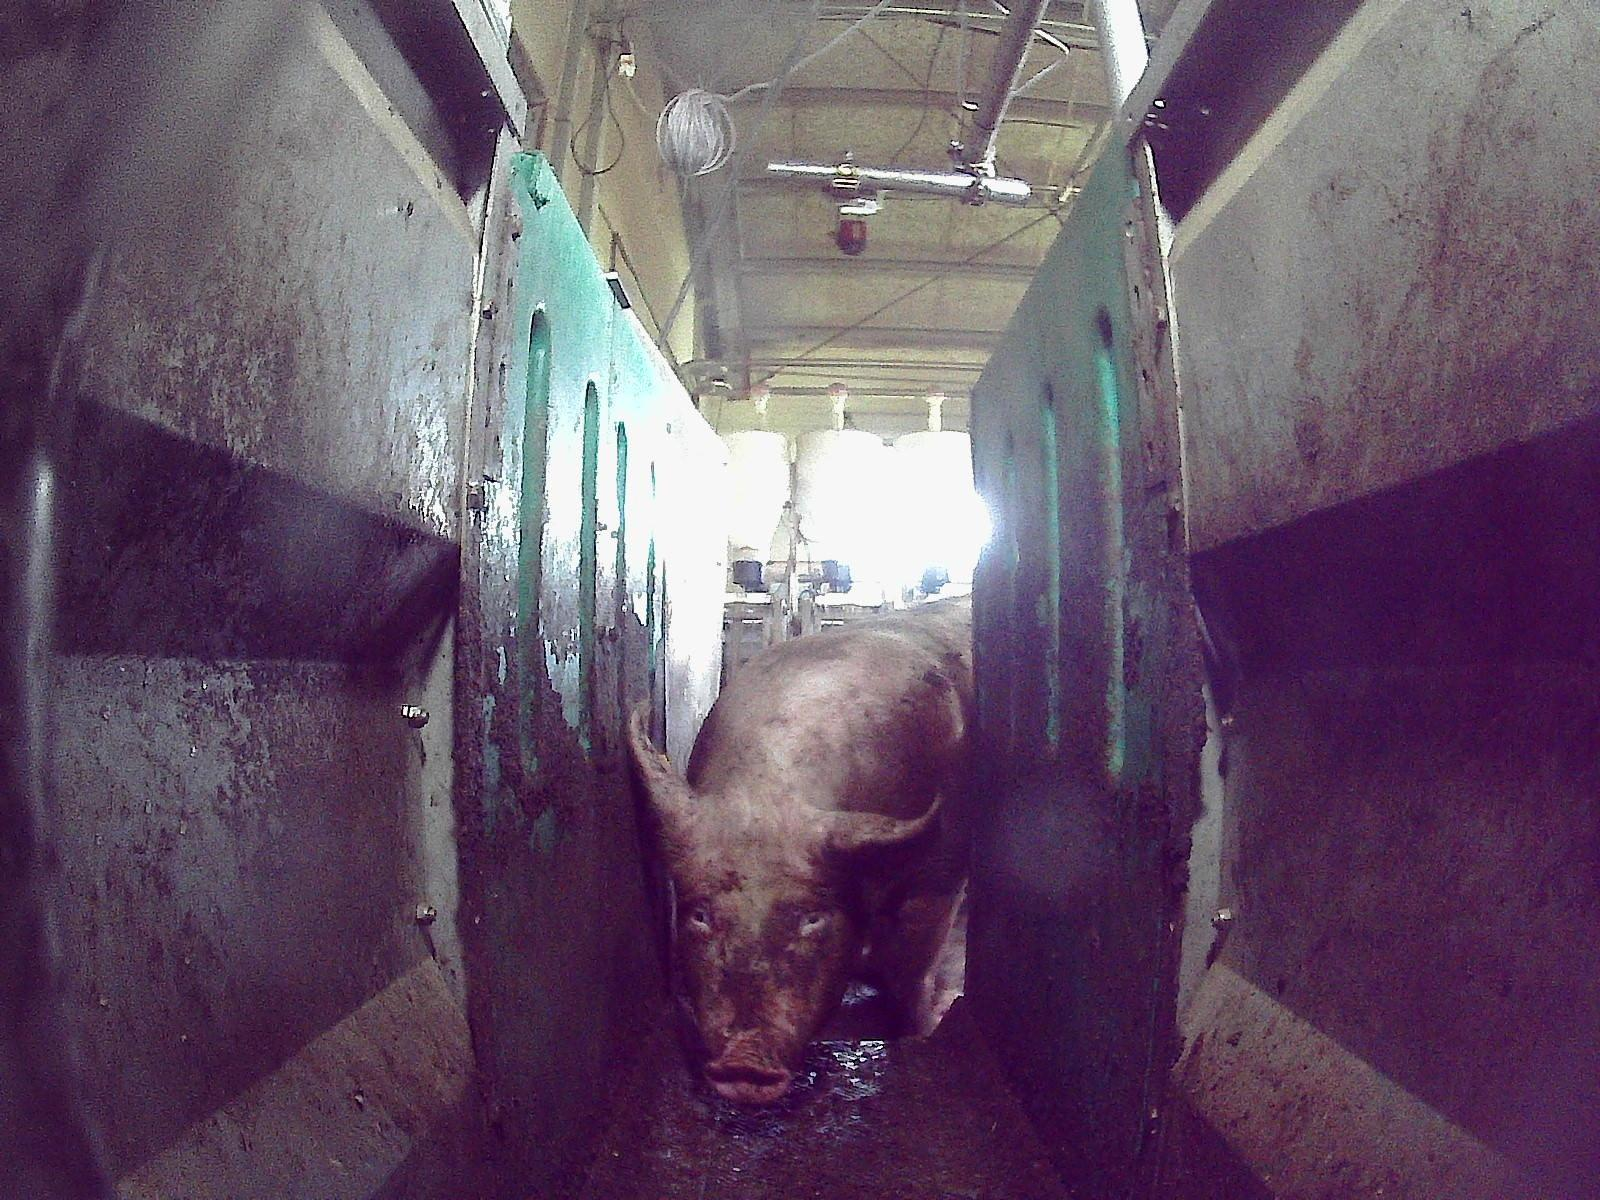Face: (670, 804, 862, 1101)
